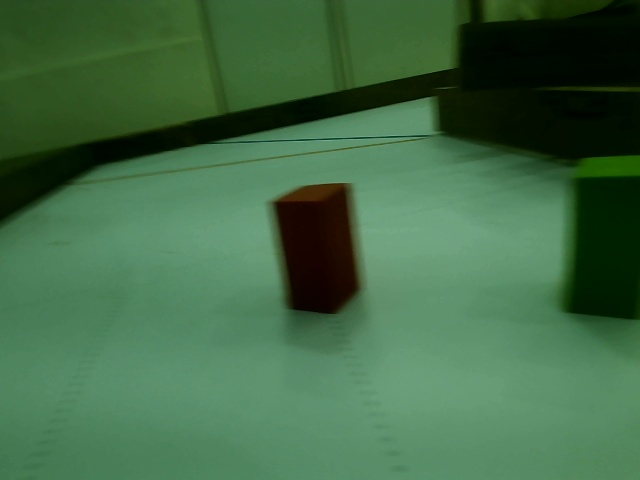red: (280, 191, 353, 302)
